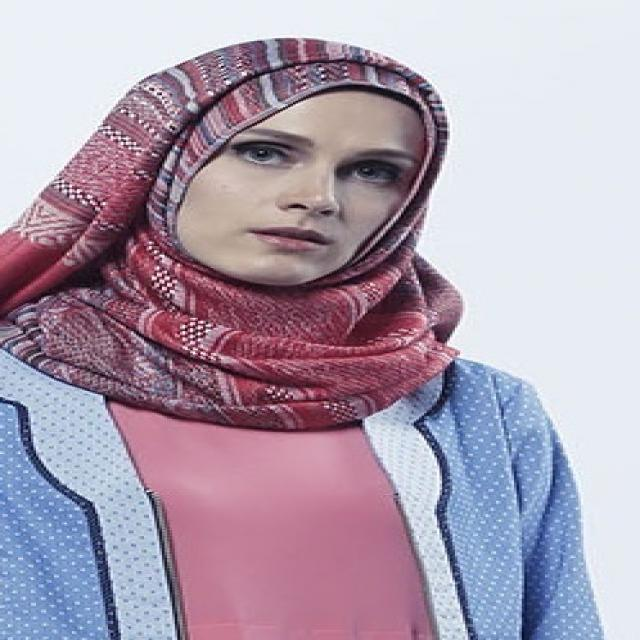head: (139, 36, 455, 294)
